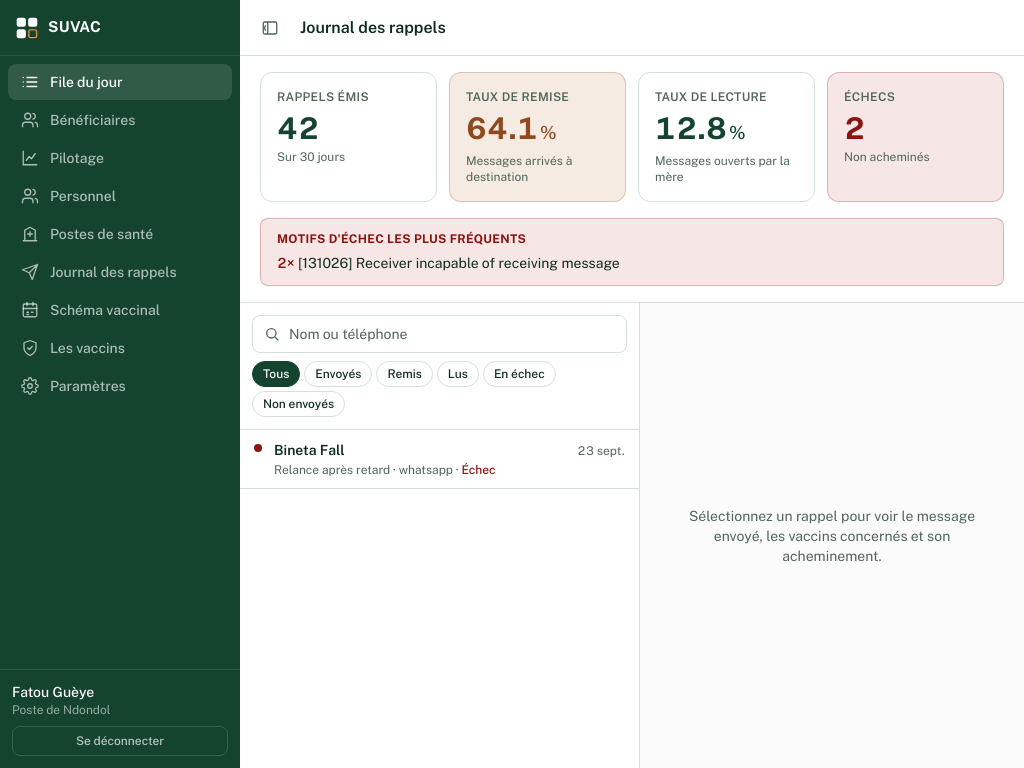
Test case: JournalRappels › expose le motif d'un échec
Click the text "Bineta Fall" at (309, 450), box top-left (274, 440), bottom-right (345, 460)
(page scrolled)
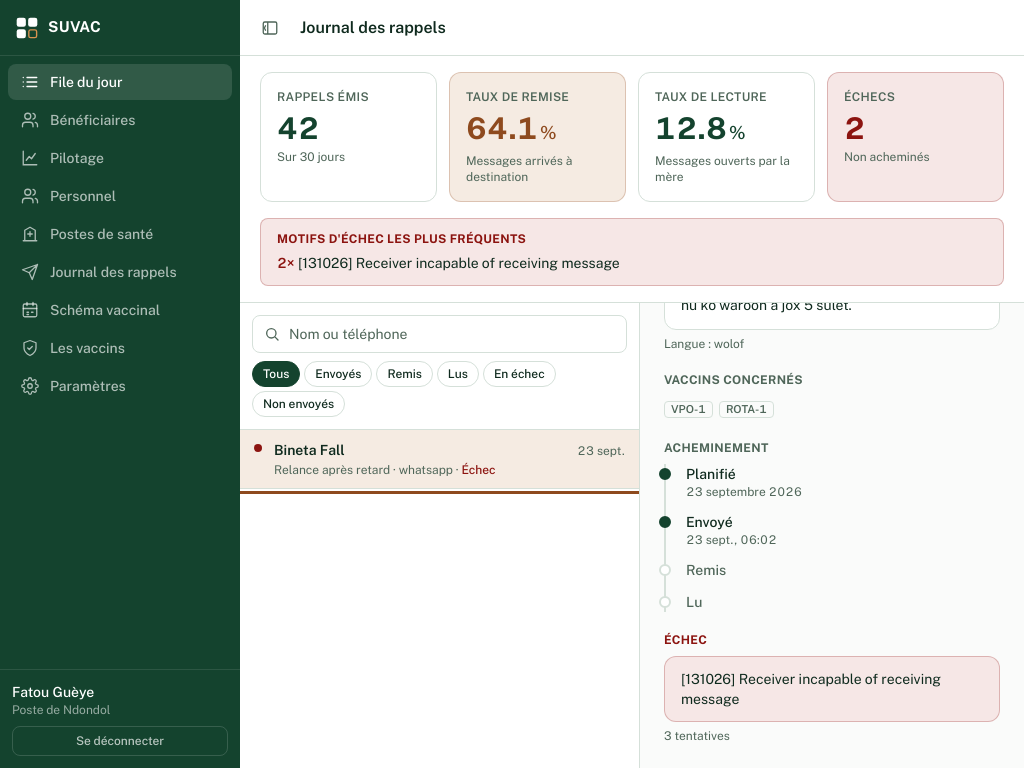
Expected: the text "3 tentatives" is shown, top-left (664, 728), bottom-right (730, 742)
